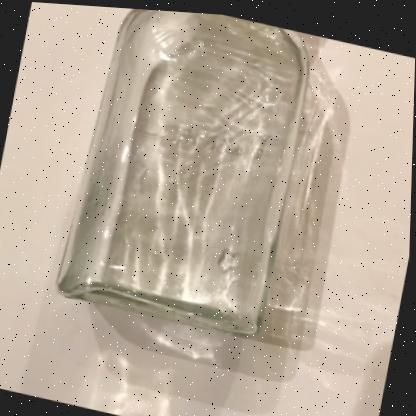Glass: (59, 7, 307, 332)
